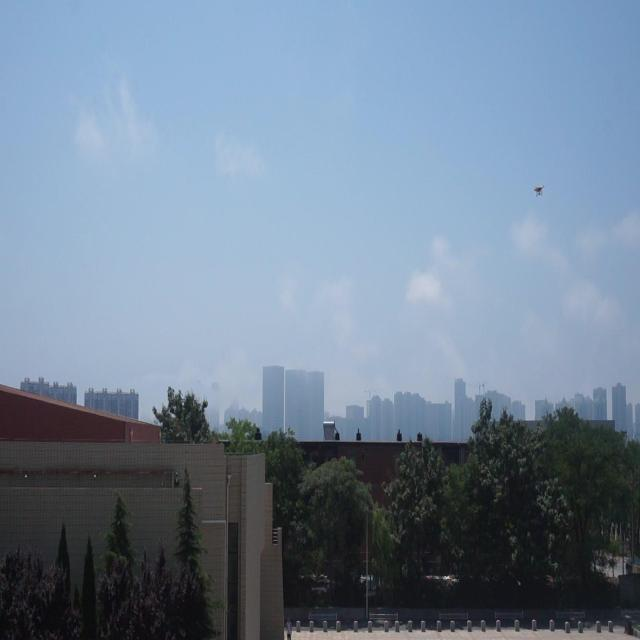drone: (532, 183, 544, 199)
